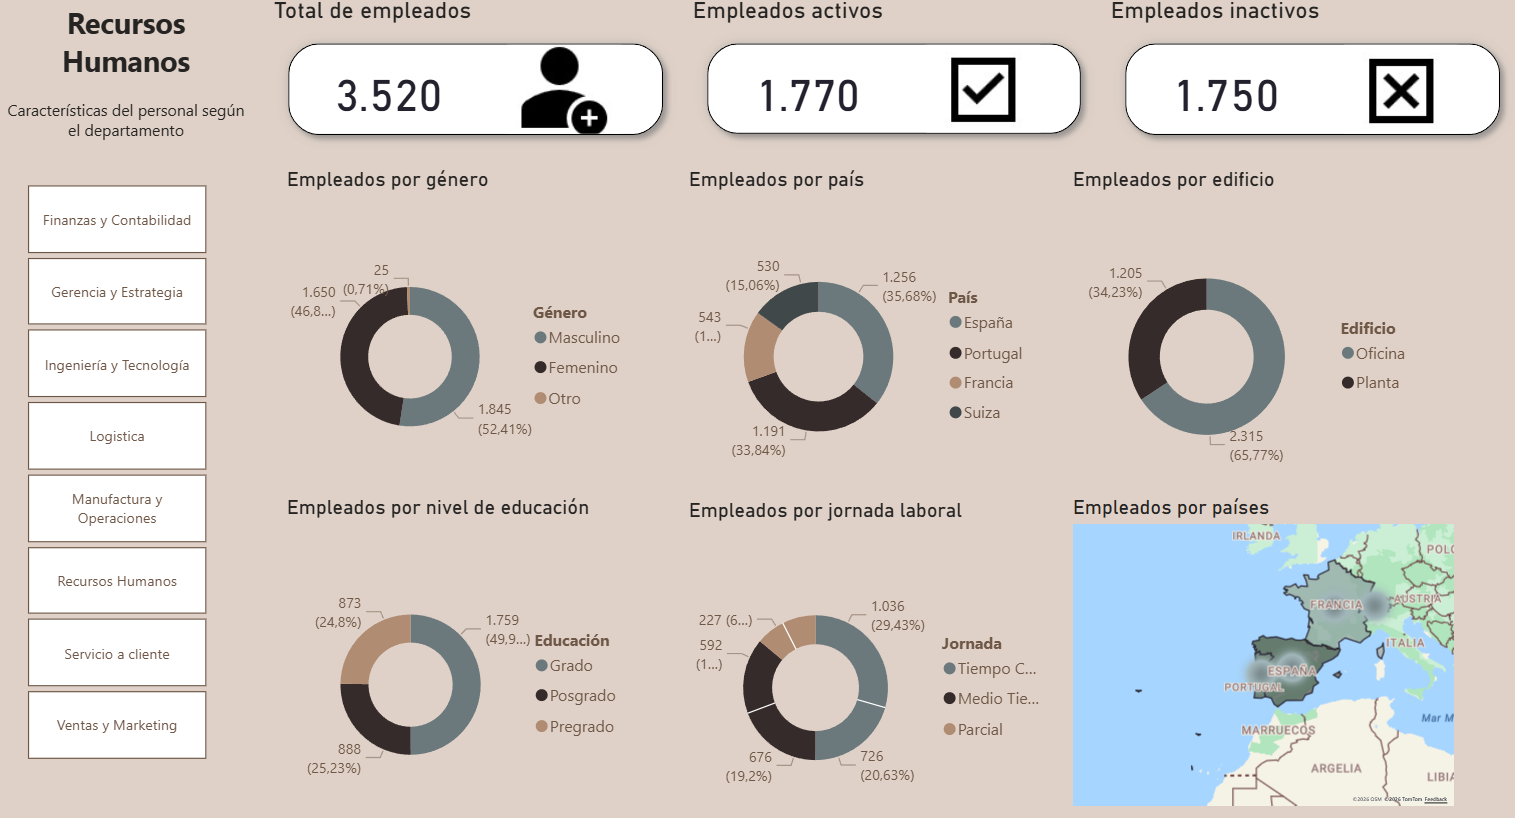

Layout of this report page (visuals, bound fields, positions):
{"tool":"powerbi","page":{"name":"Página 1","canvas":[1280,720],"ordinal":0},"visuals":[{"type":"actionButton","box":[0,0,100,40],"z":0},{"type":"cardVisual","title":"Empleados activos","fields":{"Data":["Tabla1.Cantidad Empleados"]},"box":[579.7,0.1,348.7,132.9],"z":1000},{"type":"cardVisual","title":"Total de empleados","fields":{"Data":["Tabla1.Cantidad Empleados"]},"box":[227.8,0,349,133],"z":2000},{"type":"cardVisual","title":"Empleados inactivos","fields":{"Data":["Tabla1.Cantidad Empleados"]},"box":[931,0,349,133],"z":3000},{"type":"donutChart","title":"Empleados por país","fields":{"Category":["Tabla1.País"],"Y":["Tabla1.Cantidad Empleados"]},"box":[576.5,142.9,299.8,299.8],"z":3500},{"type":"donutChart","title":"Empleados por género","fields":{"Category":["Tabla1.Género"],"Y":["Tabla1.Cantidad Empleados"]},"box":[238.8,142.9,299.8,299.8],"z":4000},{"type":"donutChart","title":"Empleados por nivel de educación","fields":{"Category":["Tabla1.Educación"],"Y":["Tabla1.Cantidad Empleados"]},"box":[238.8,418.7,299.8,299.8],"z":5000},{"type":"donutChart","title":"Empleados por edificio","fields":{"Y":["Tabla1.Cantidad Empleados"],"Category":["Tabla1.Edificio"]},"box":[899.3,142.9,299.8,299.8],"z":7000},{"type":"donutChart","title":"Empleados por jornada laboral","fields":{"Y":["Tabla1.Cantidad Empleados"],"Category":["Tabla1.Jornada"],"Series":["Tabla1.Modalidad"]},"box":[576.5,420.7,314.8,299.8],"z":8000},{"type":"azureMap","title":"Empleados por países","fields":{"Category":["Tabla1.País"]},"box":[899.3,418.7,329.7,265.8],"z":9000},{"type":"slicer","fields":{"Values":["Tabla1.Área"]},"box":[0,150.9,199.8,495.6],"z":10000},{"type":"textbox","box":[0,0,216.8,142.9],"z":11001}]}

Visuals, with their boxes on the page's 1280x720 design canvas (x1, y1, x2, y2). These are canvas units, not pixel positions in the 1515x818 screenshot, which may show the page scaled, cropped or inside an application window:
actionButton: [0,0,100,40]
"Empleados activos" cardVisual: [580,0,928,133]
"Total de empleados" cardVisual: [228,0,577,133]
"Empleados inactivos" cardVisual: [931,0,1280,133]
"Empleados por país" donutChart: [576,143,876,443]
"Empleados por género" donutChart: [239,143,539,443]
"Empleados por nivel de educación" donutChart: [239,419,539,718]
"Empleados por edificio" donutChart: [899,143,1199,443]
"Empleados por jornada laboral" donutChart: [576,421,891,720]
"Empleados por países" azureMap: [899,419,1229,684]
slicer - Tabla1.Área: [0,151,200,646]
textbox: [0,0,217,143]
